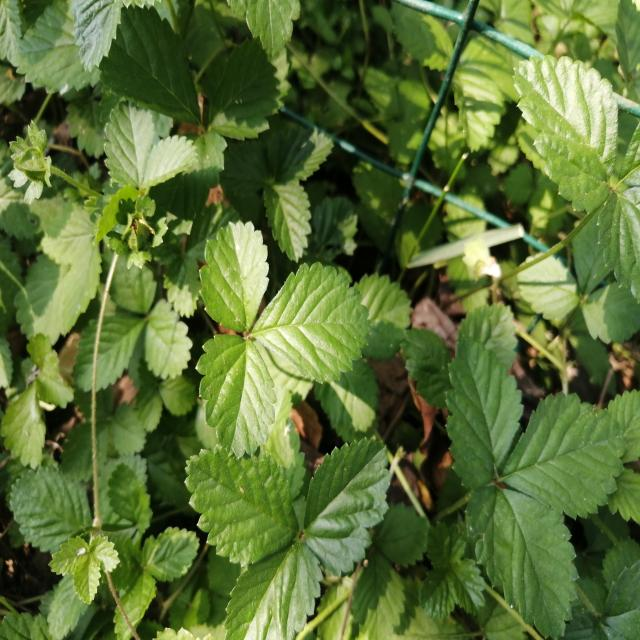Mock_strawberry: (190, 232, 380, 434)
